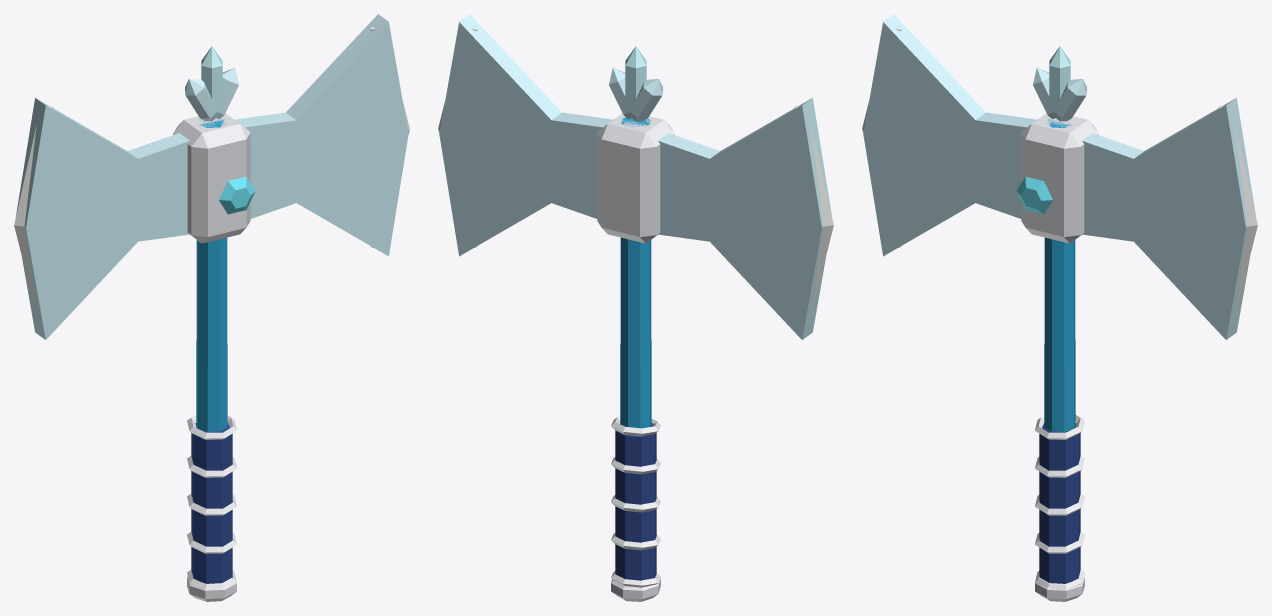
The model's file is FrostAxe.fbx.
3 views of the same model, side by side, from view 1: azimuth 30°, elevation 25°; view 2: azimuth 150°, elevation 25°; view 3: azimuth 330°, elevation 25° (orthographic).
Parts seen in each view (by area): view 1: FrostAxe; view 2: FrostAxe; view 3: FrostAxe.
Boxes of the visible parts, box(x1,y1,x2,y2) form: FrostAxe: box(14, 14, 409, 601); FrostAxe: box(438, 14, 833, 601); FrostAxe: box(862, 14, 1257, 601).
Bounding box in the file's own units: 3 × 3.97 × 0.58.
1 material, 1 textured.
